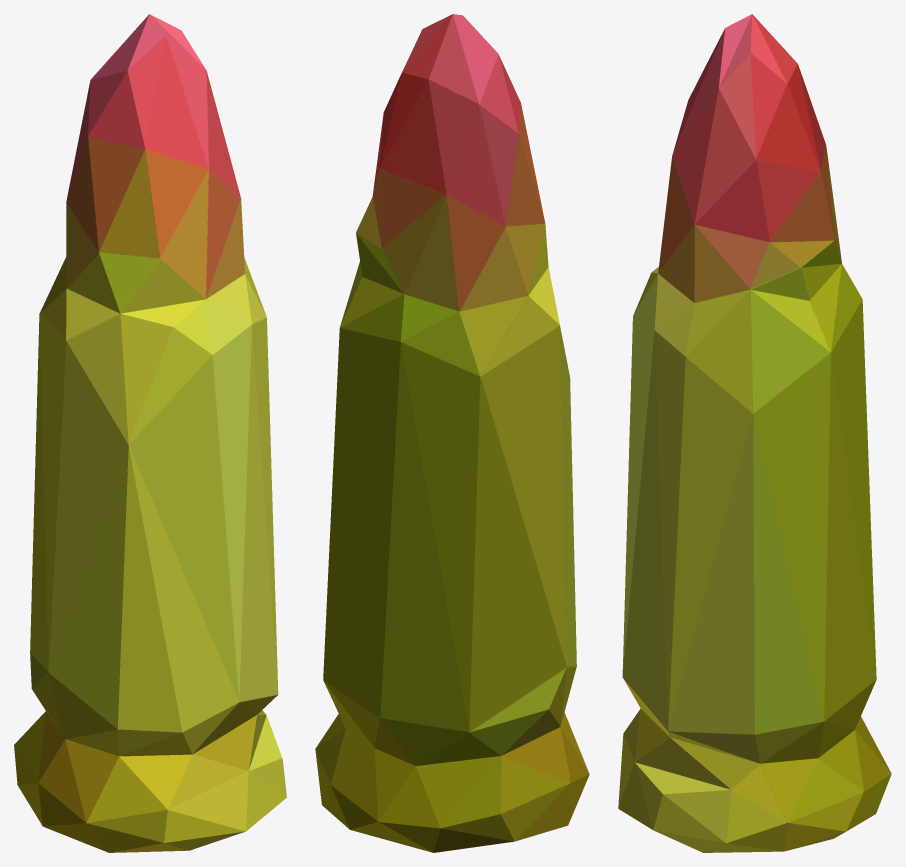
File: Bullet_in_flight_with_shell_casing__0518051642_refine.glb
3 views of the same model, side by side, from view 1: azimuth 30°, elevation 25°; view 2: azimuth 150°, elevation 25°; view 3: azimuth 270°, elevation 25° (orthographic).
Parts seen in each view (by area): view 1: Mesh_0; view 2: Mesh_0; view 3: Mesh_0.
Part boxes in pixels (x1,y1,x2,y2): Mesh_0: [14, 14, 286, 852]; Mesh_0: [315, 14, 589, 852]; Mesh_0: [618, 14, 891, 852].
Bounding box in the file's own units: 0.4846 × 1.56 × 0.4865.
1 material, 1 textured.
